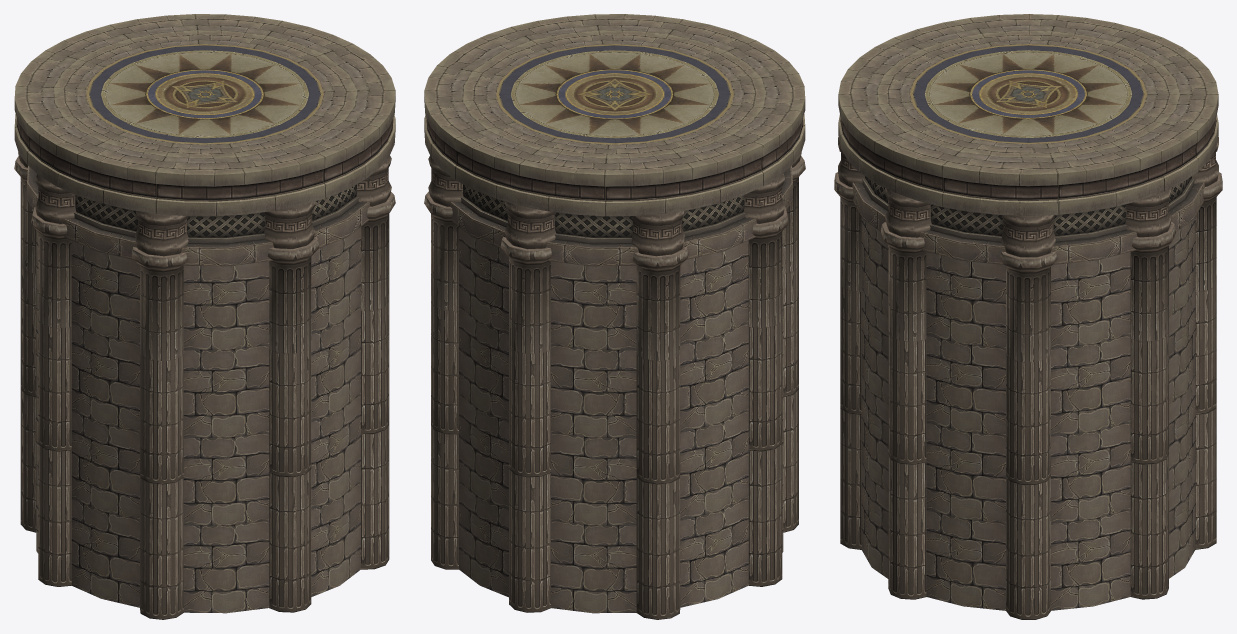
File: Boss_YuanTai_002.FBX
3 views of the same model, side by side, from view 1: azimuth 30°, elevation 25°; view 2: azimuth 150°, elevation 25°; view 3: azimuth 270°, elevation 25° (orthographic).
Parts seen in each view (by area): view 1: Boss_YuanTai_002; view 2: Boss_YuanTai_002; view 3: Boss_YuanTai_002.
Boxes of the visible parts, x1=… form: Boss_YuanTai_002: x1=14, y1=14, x2=395, y2=619; Boss_YuanTai_002: x1=424, y1=14, x2=805, y2=619; Boss_YuanTai_002: x1=834, y1=14, x2=1222, y2=619.
Size of the model in its own units: 1375 by 1744 by 1375.
